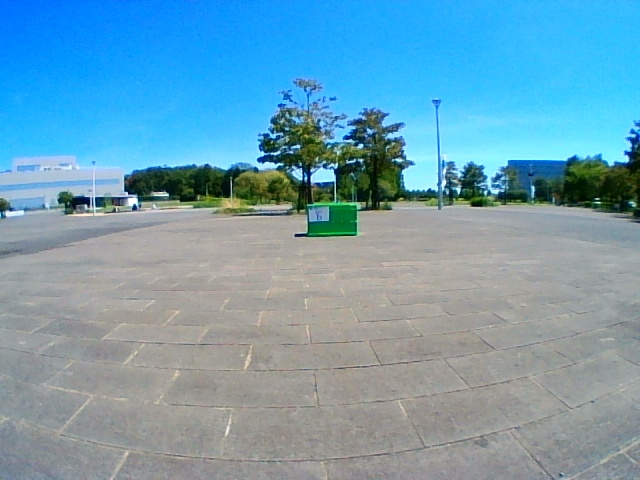green_box: (308, 203, 358, 236)
tag_b: (310, 206, 329, 221)
